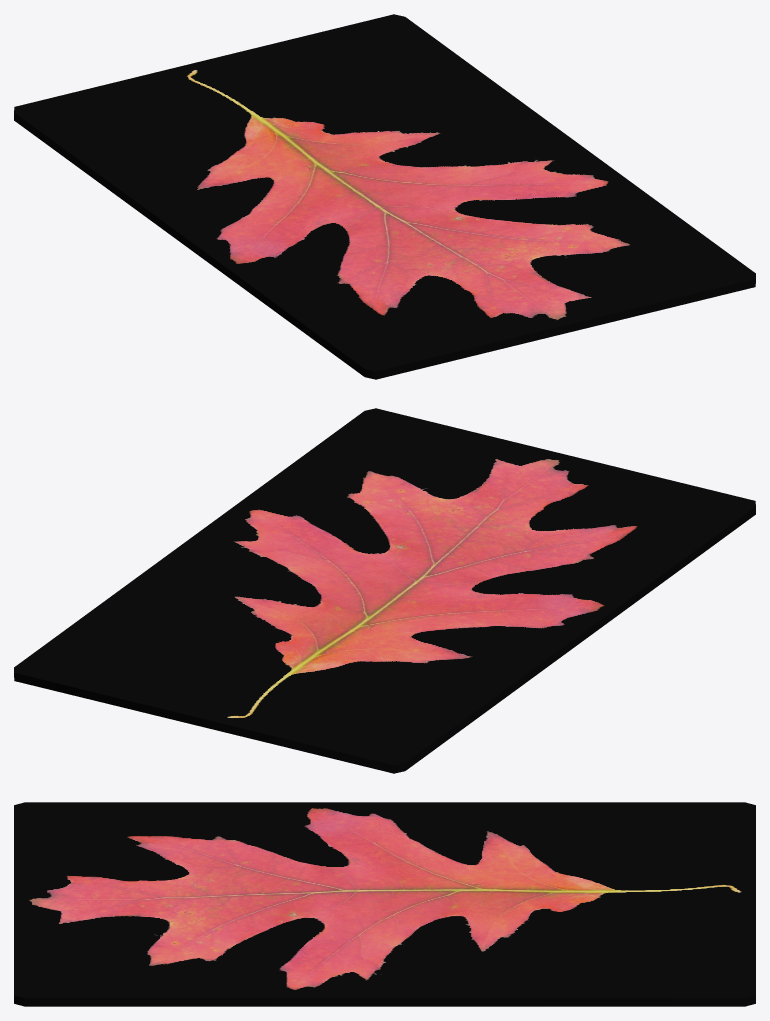
Rendered from card.fbx.
The picture shows the model from 3 angles, top to bottom: view 1: azimuth 30°, elevation 25°; view 2: azimuth 150°, elevation 25°; view 3: azimuth 270°, elevation 25°; orthographic projection. The views are drawn at different scales.
Parts seen in each view (by area): view 1: Cube; view 2: Cube; view 3: Cube.
Part boxes in pixels (x1,y1,x2,y2): Cube: (14, 14, 755, 379); Cube: (14, 408, 755, 773); Cube: (14, 802, 755, 1006).
Size of the model in its own units: 4 by 0.08 by 6.4.
1 material, 1 textured.
